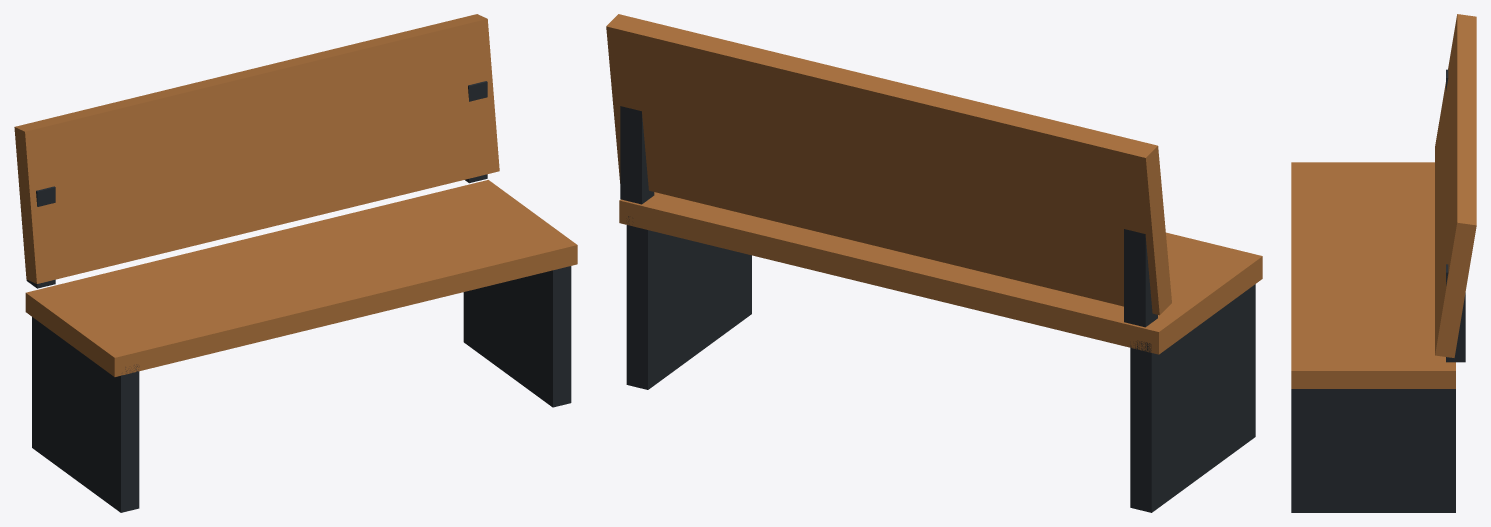
File: patio_garden_bench.glb
3 renders of one model, left to right at view 1: azimuth 30°, elevation 25°; view 2: azimuth 150°, elevation 25°; view 3: azimuth 270°, elevation 25°, orthographic. The views are drawn at different scales.
Parts seen in each view (by area): view 1: garden_bench; view 2: garden_bench; view 3: garden_bench.
Part boxes in pixels (x1,y1,x2,y2): garden_bench: [14, 14, 577, 512]; garden_bench: [606, 14, 1262, 512]; garden_bench: [1291, 14, 1476, 512].
Size of the model in its own units: 1.5 by 0.982 by 0.5633.
